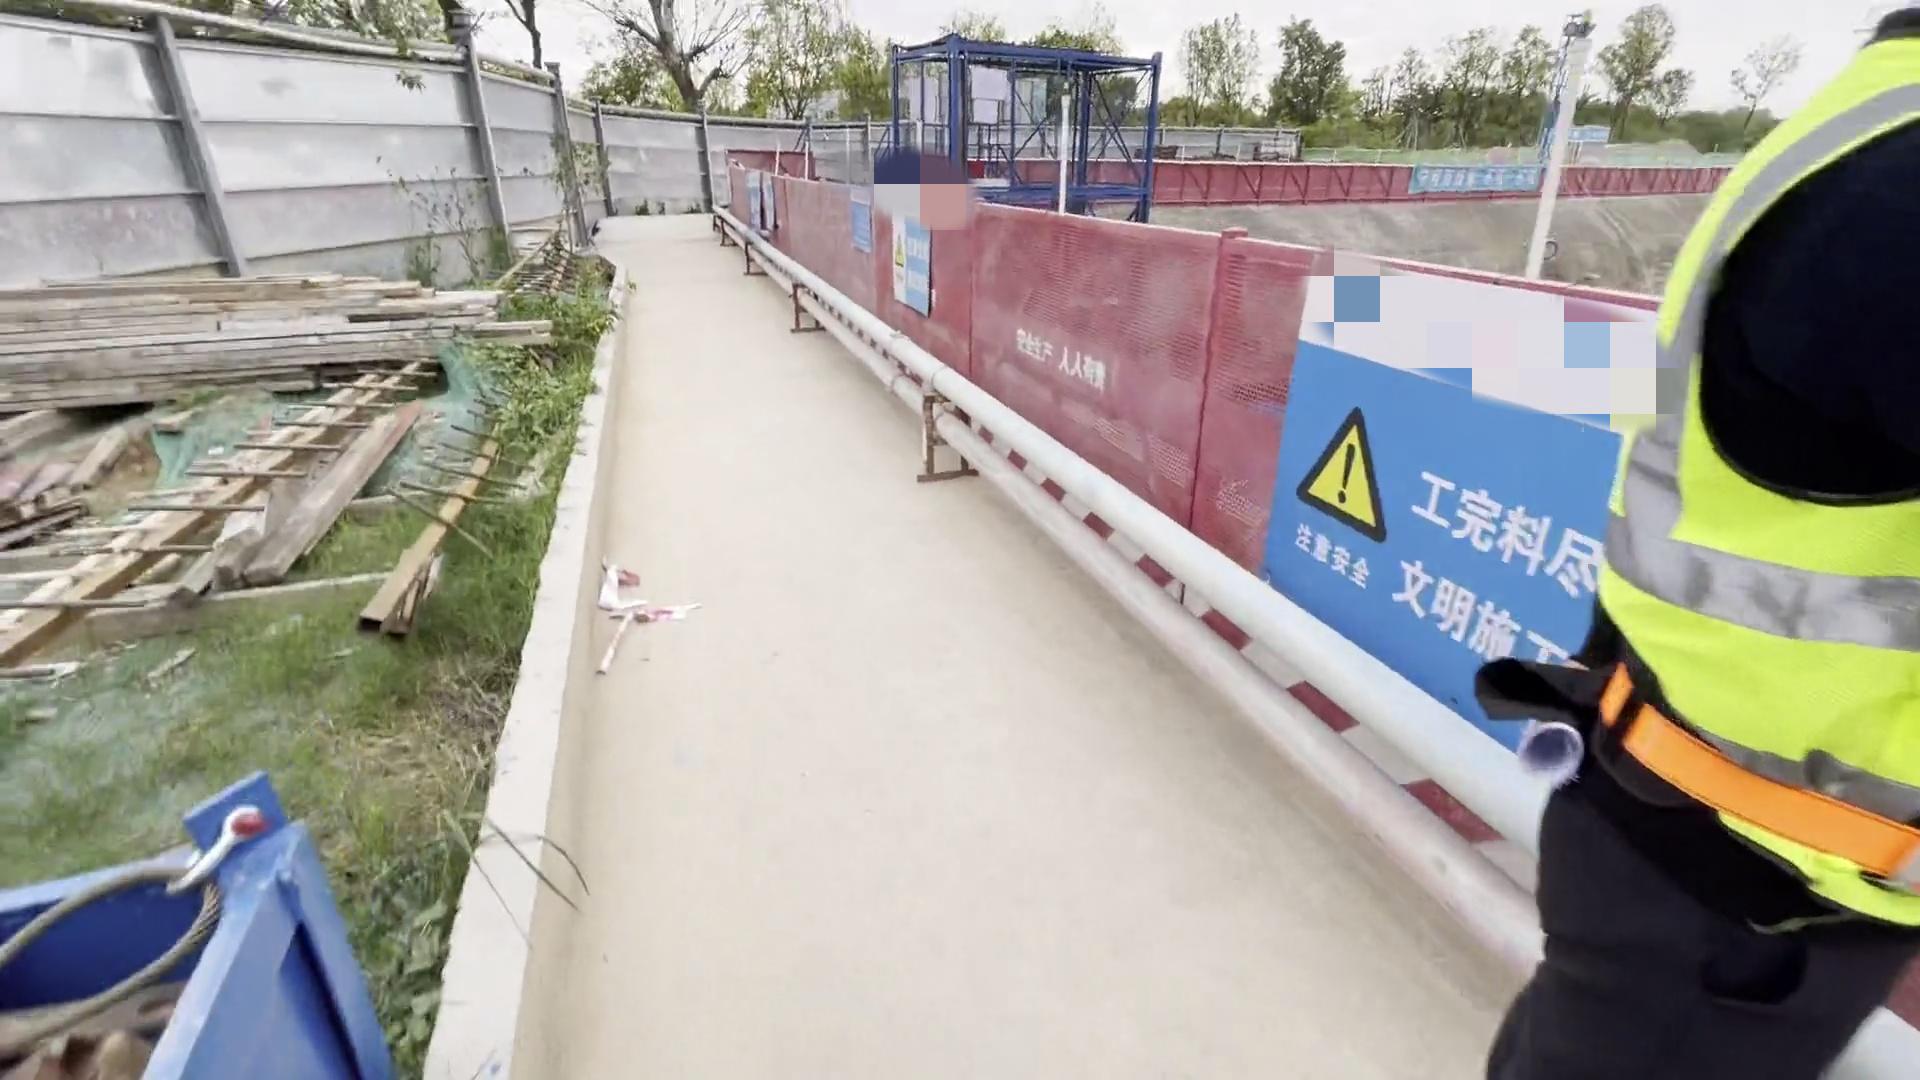fence: (706, 118, 1715, 836)
hopper: (8, 792, 383, 1080)
person: (1418, 1, 1916, 1073)
slogan: (1270, 260, 1633, 749), (836, 188, 940, 324), (1398, 156, 1545, 204), (744, 165, 781, 244)
vest: (1606, 16, 1920, 924)
wood: (23, 254, 524, 395)
